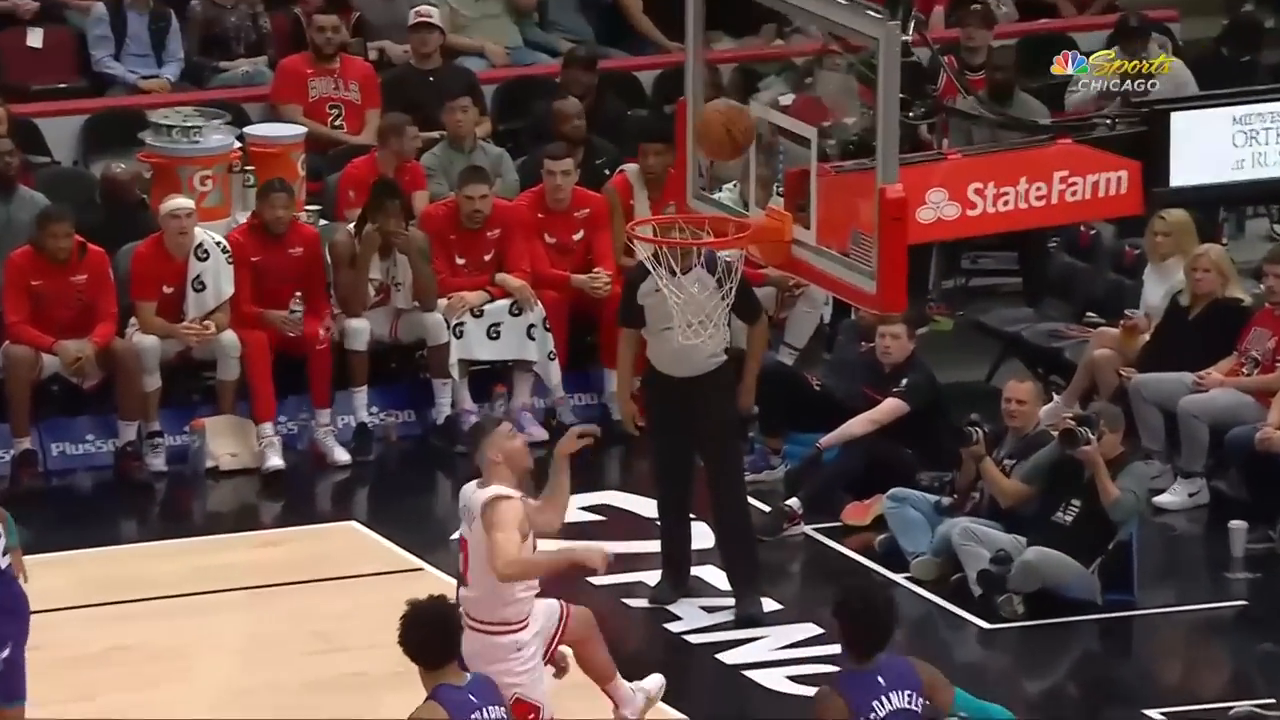ball: (685, 92, 763, 168)
net: (621, 211, 762, 351)
